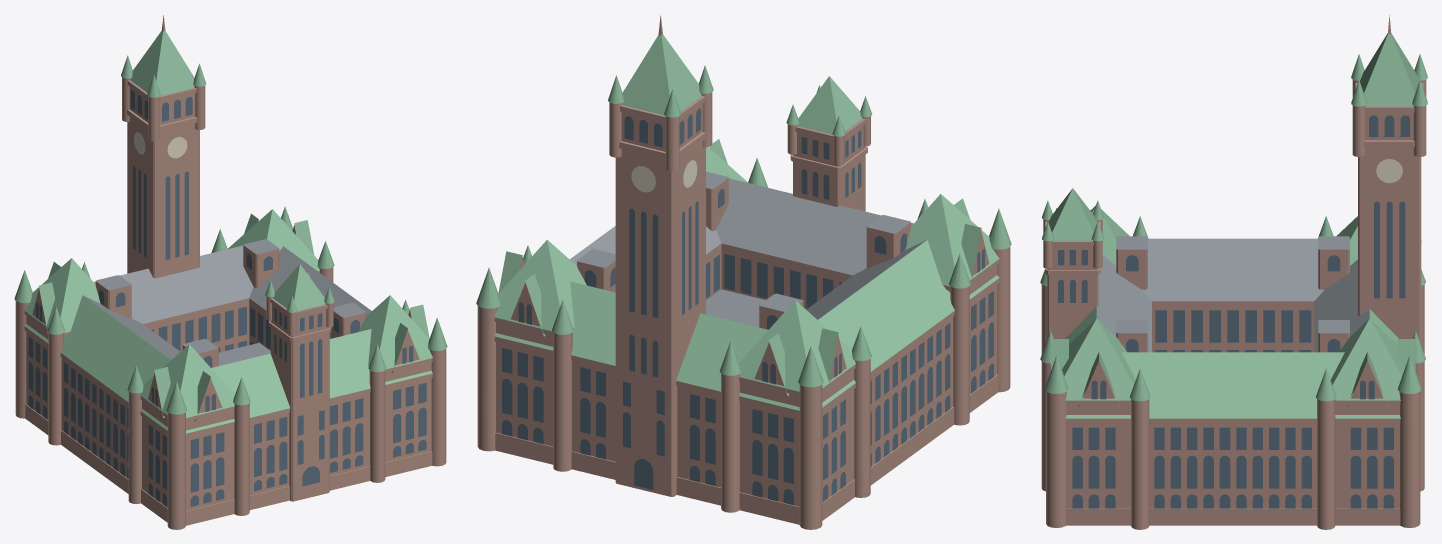
File: msp-minneapolis-city-hall.glb
3 views of the same model, side by side, from view 1: azimuth 30°, elevation 25°; view 2: azimuth 150°, elevation 25°; view 3: azimuth 270°, elevation 25° (orthographic). The views are drawn at different scales.
Visible parts, largest first — view 1: Minneapolis City Hall; view 2: Minneapolis City Hall; view 3: Minneapolis City Hall.
Boxes of the visible parts, box(x1,y1,x2,y2) form: Minneapolis City Hall: box(14, 15, 447, 529); Minneapolis City Hall: box(476, 15, 1011, 529); Minneapolis City Hall: box(1040, 15, 1427, 529).
Bounding box in the file's own units: 96.5 × 122 × 97.9.
